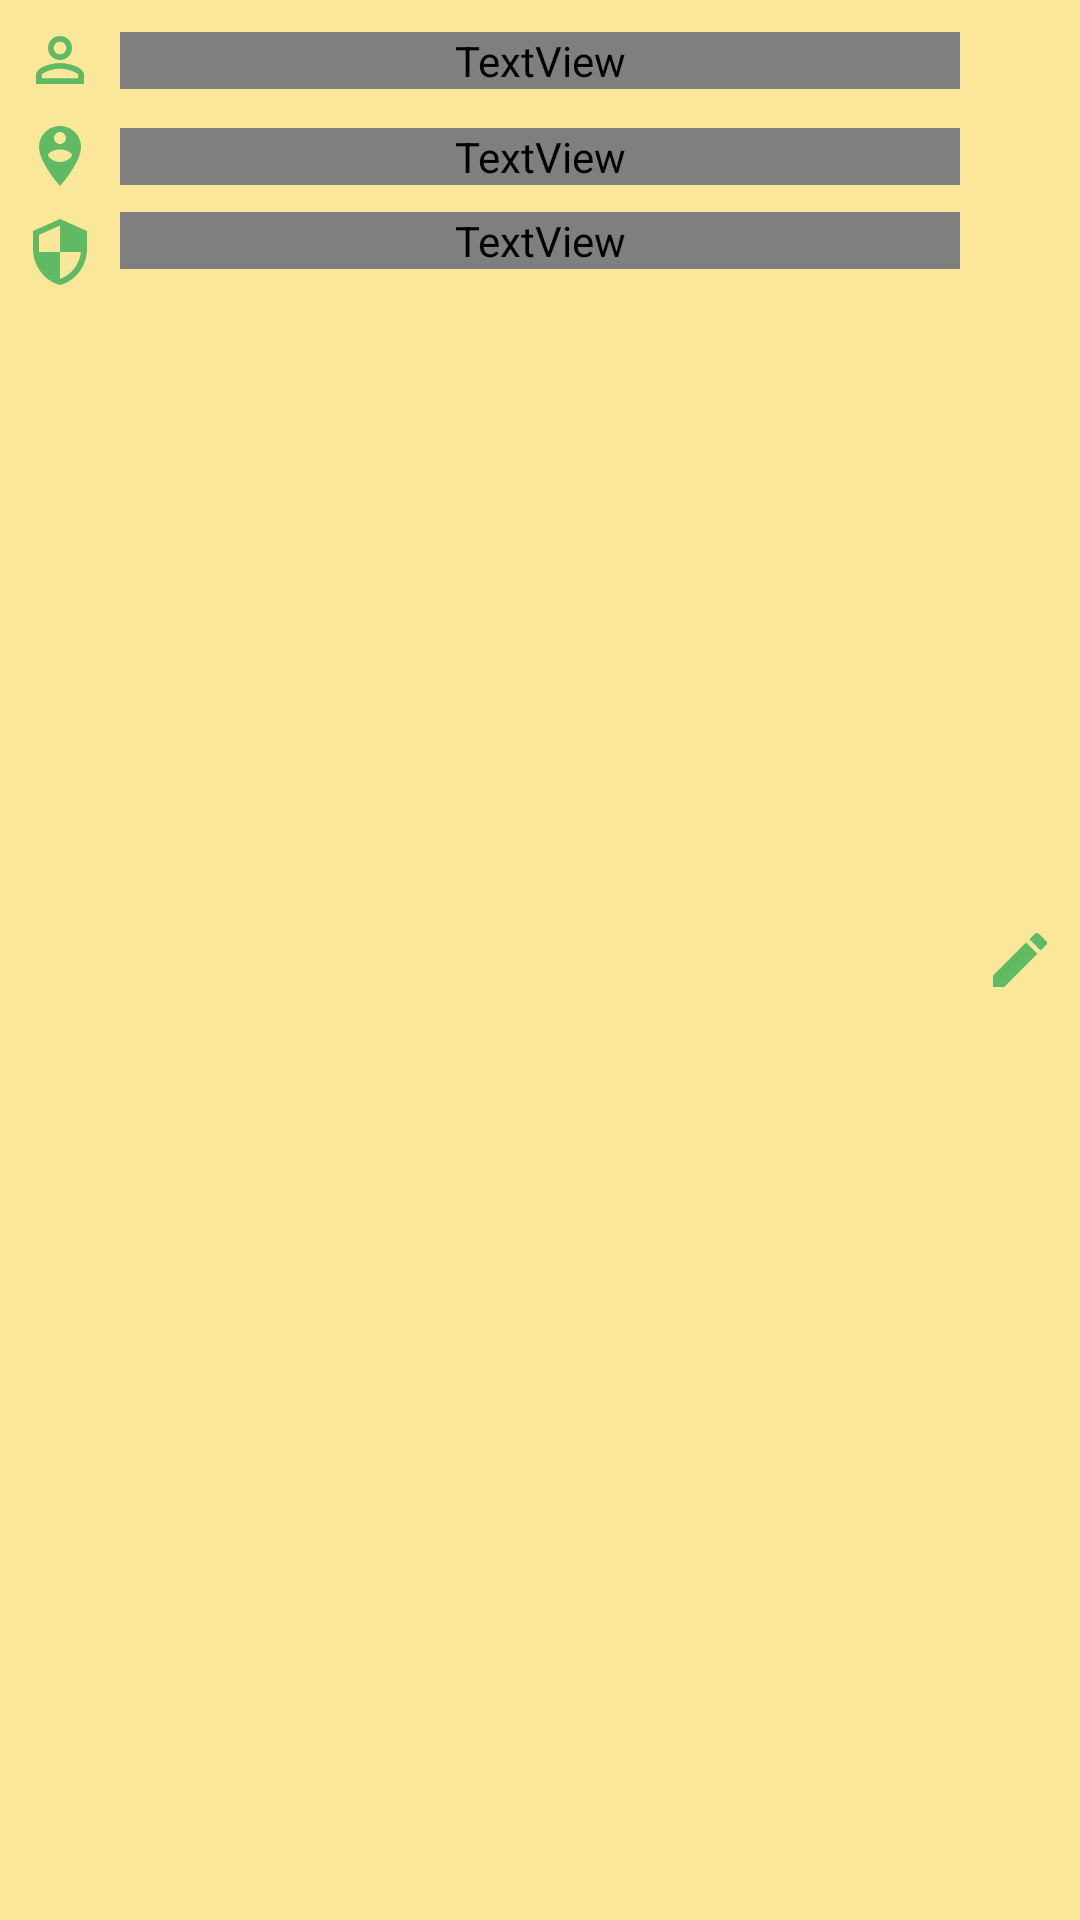

Screen size 1080px×1920px. Icon name, then its box in pixels as (x1, y1, x2, y2):
Edit: (993, 933, 1047, 987)
Password: (33, 219, 87, 285)
